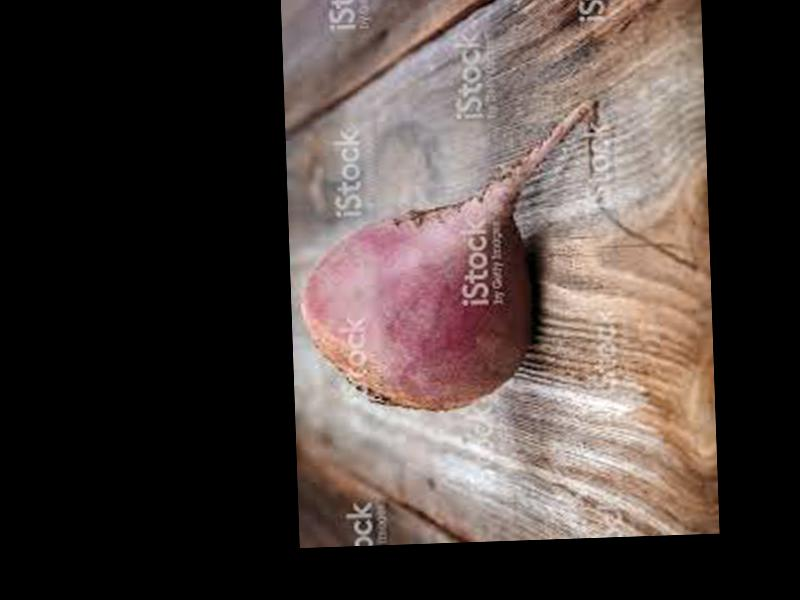Beet: (294, 97, 605, 415)
